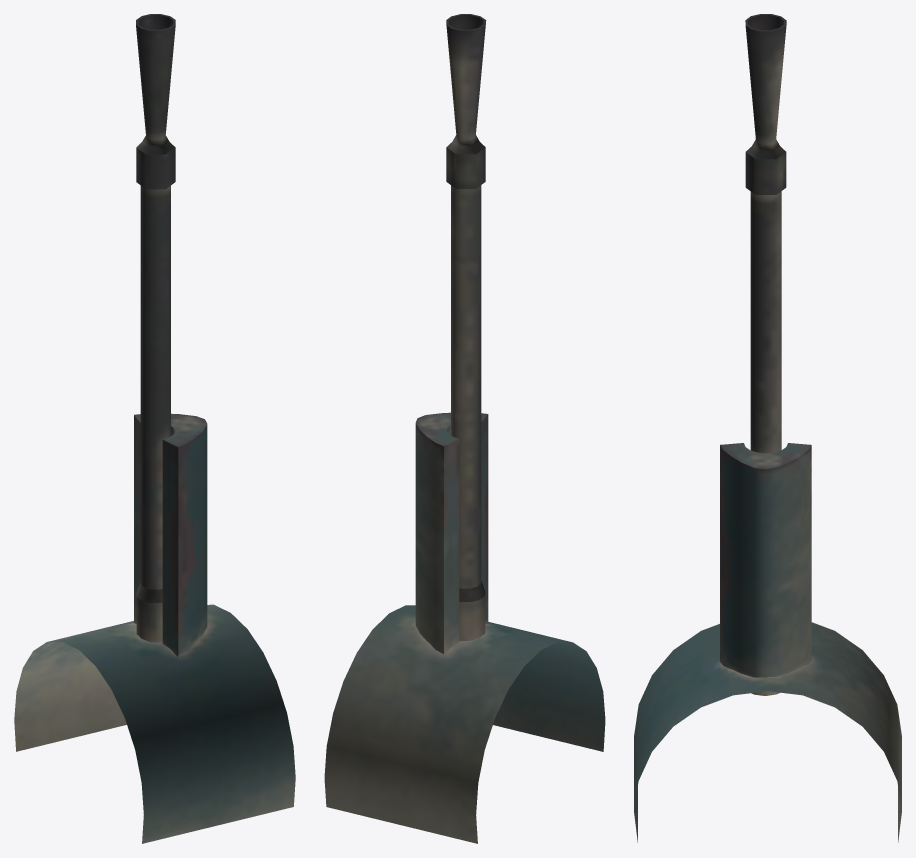
File: Gun_05.glb
3 views of the same model, side by side, from view 1: azimuth 30°, elevation 25°; view 2: azimuth 150°, elevation 25°; view 3: azimuth 270°, elevation 25° (orthographic). The views are drawn at different scales.
Parts seen in each view (by area): view 1: set_0_group_0; view 2: set_0_group_0; view 3: set_0_group_0.
Boxes of the visible parts, x1,y1,x2,y2 form: set_0_group_0: (14,14,295,843); set_0_group_0: (324,14,605,843); set_0_group_0: (634,14,901,842).
Bounding box in the file's own units: 0.2102 × 1 × 0.3106.
Materials: 1 (1 with a texture image).
